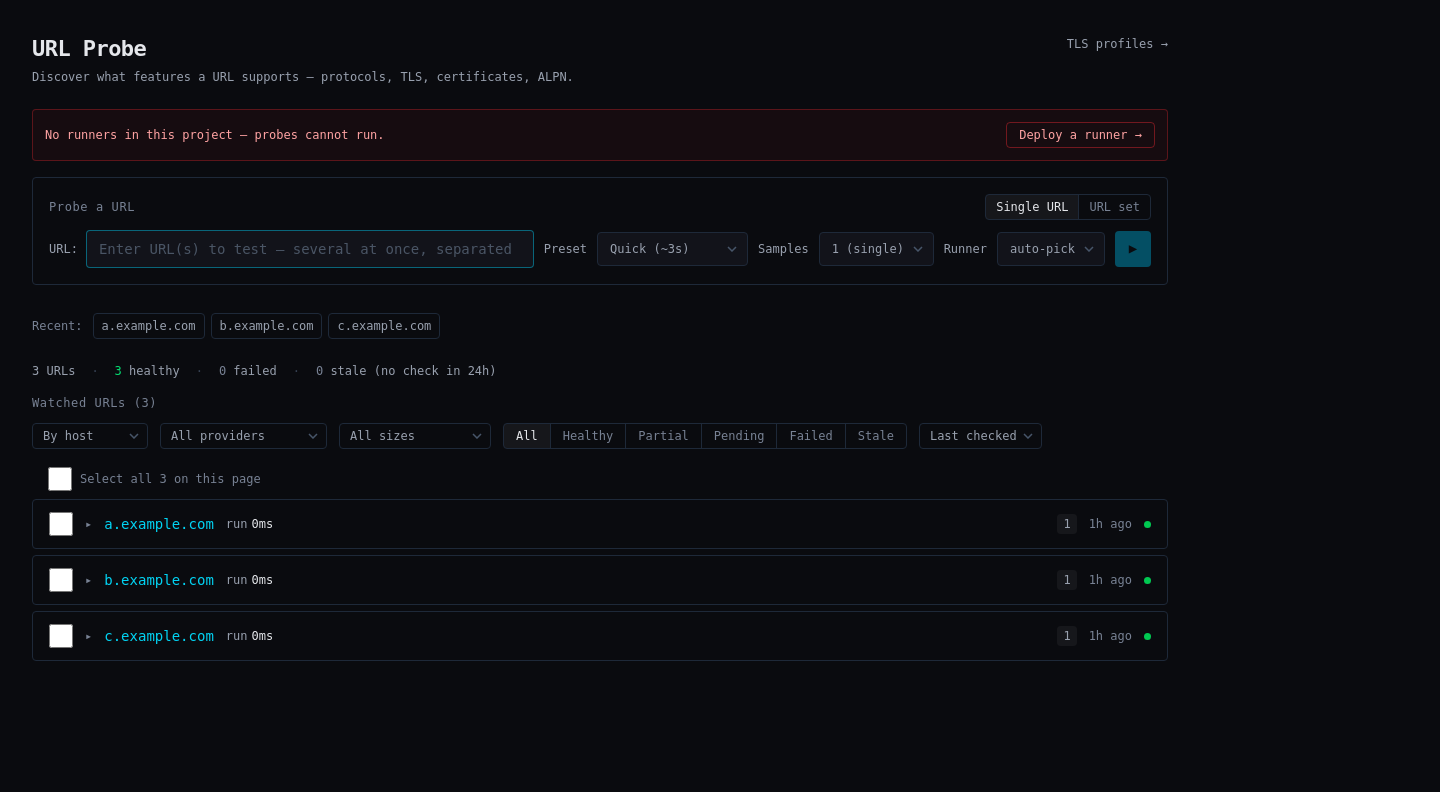
Test case: multi-URL entry › switching modes carries the same URLs across
Type "a.example.com b.example.com" into the field named "URL or hostname to test" at [310, 249], box [86,230,534,268]
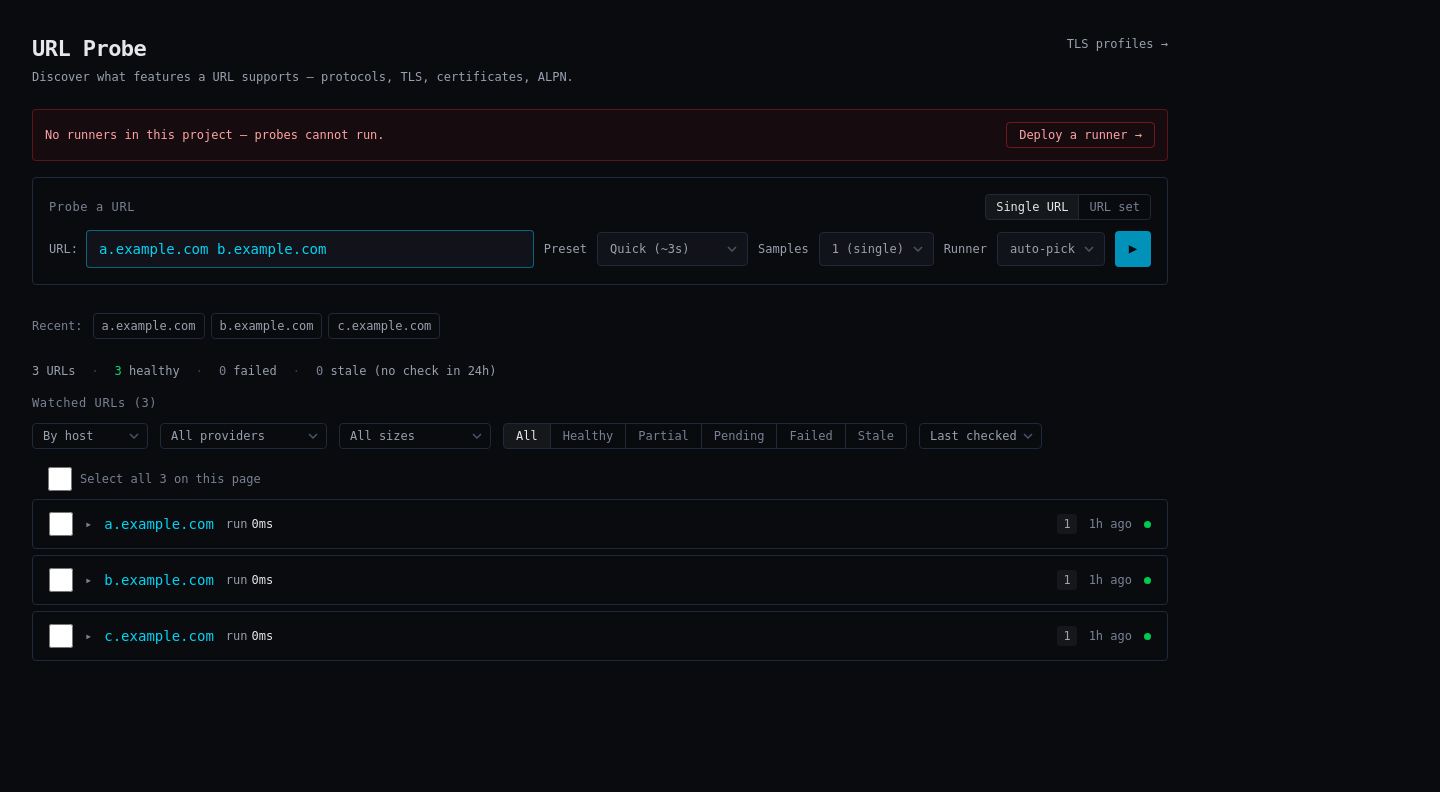
Click the button "URL set" at [1115, 207], box [1079,195,1150,219]
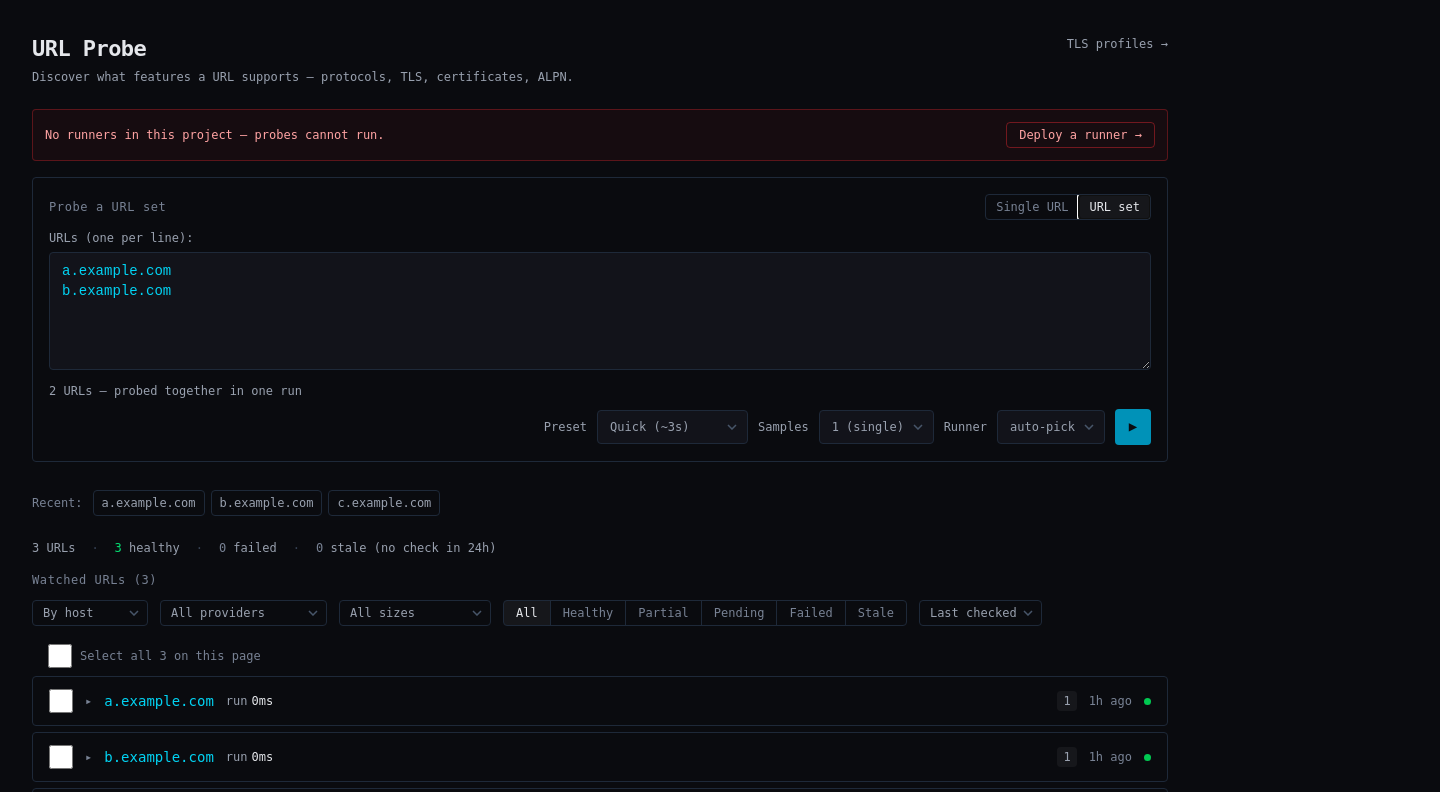
Click the button "Single URL" at [1033, 207], box [986,195,1080,219]
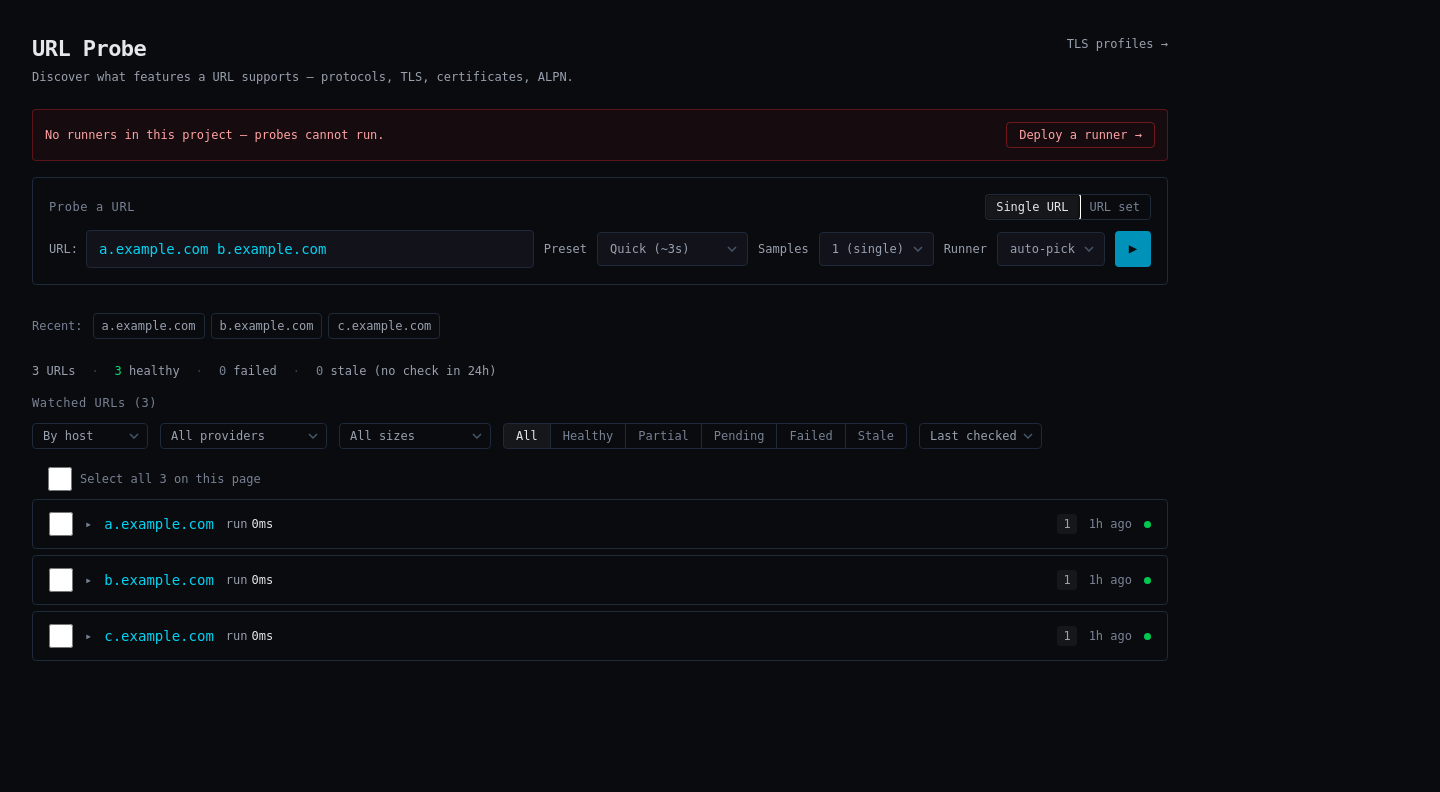
expect the field named "URL or hostname to test" holds "a.example.com b.example.com": met, box [86,230,534,268]
